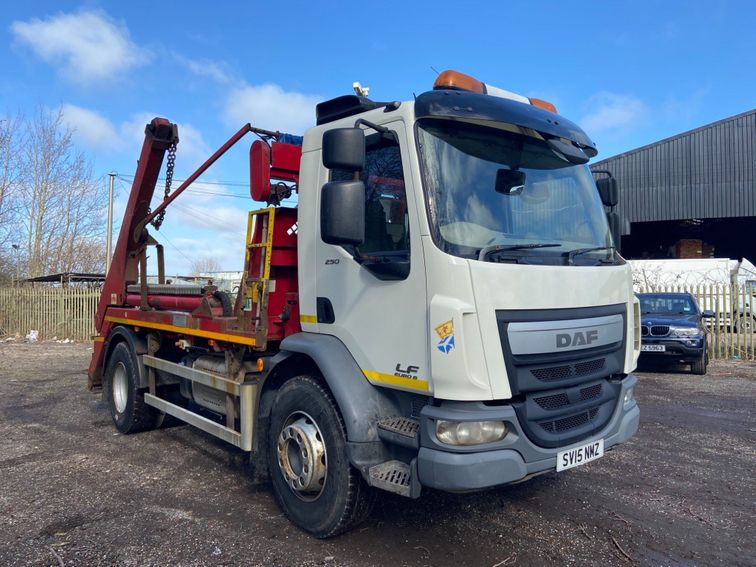Car: (635, 291, 715, 373)
Semi: (87, 71, 638, 539)
